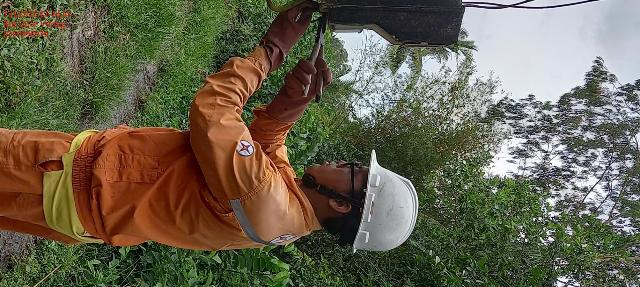gloves: (263, 43, 328, 126), (250, 0, 319, 67)
helmet: (355, 139, 429, 277)
